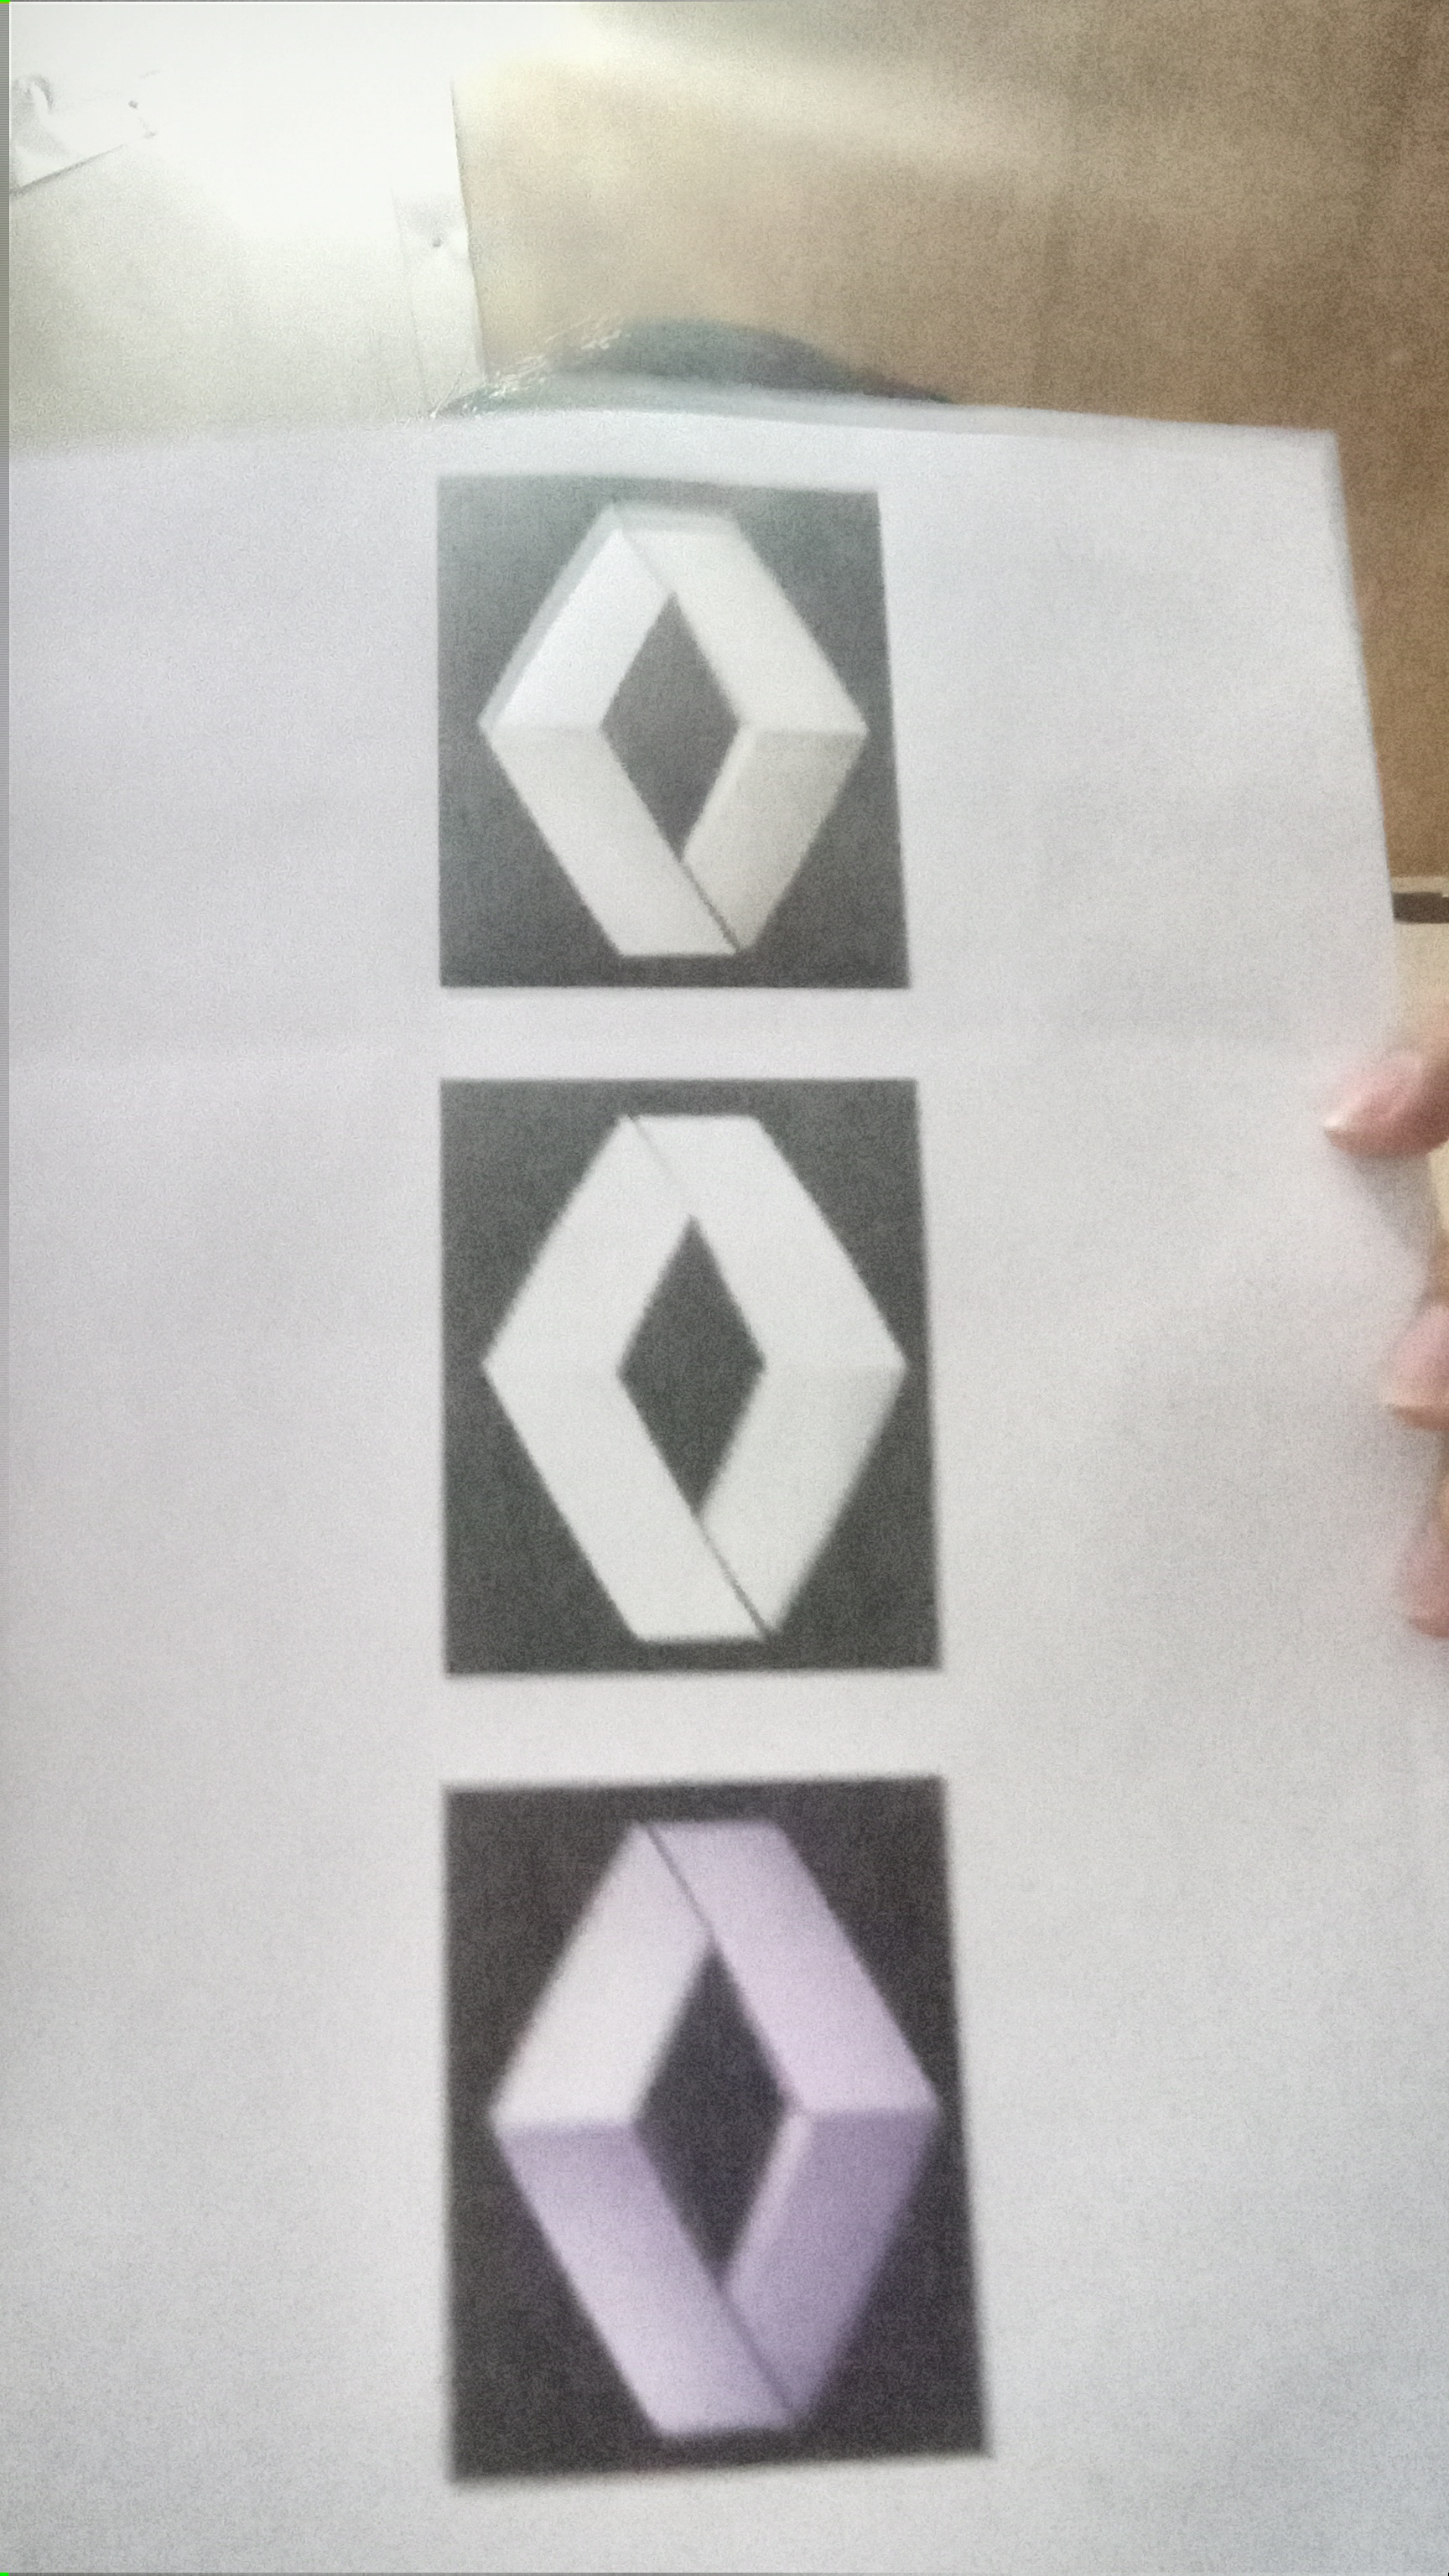Renault: (456, 1794, 954, 2447), (455, 1090, 922, 1651), (455, 487, 883, 975)
